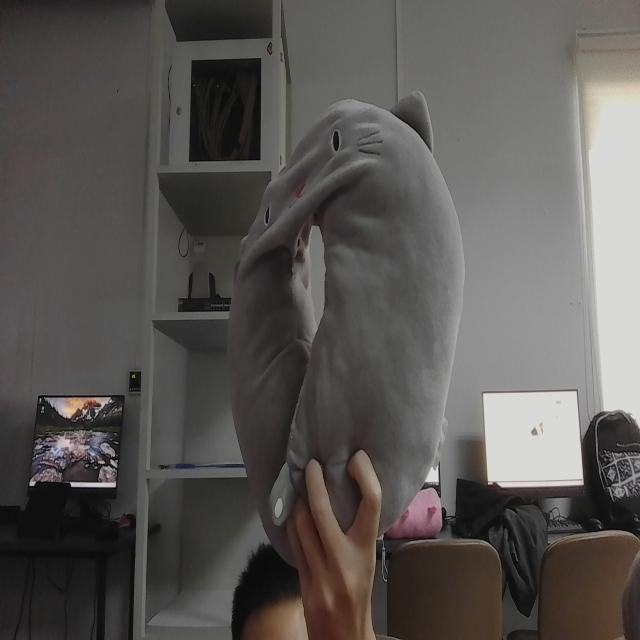pillow: (221, 85, 470, 572)
